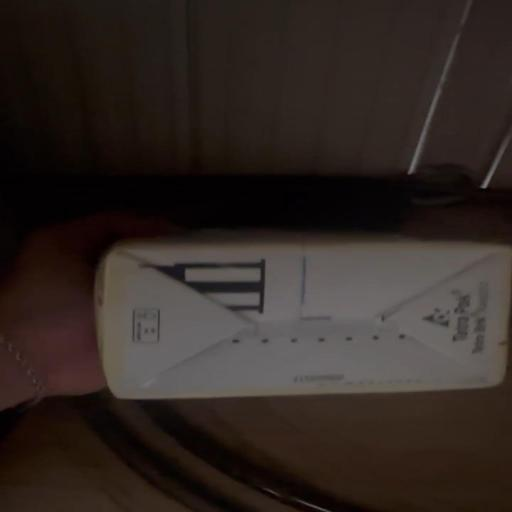ly_giay: (95, 231, 511, 399)
